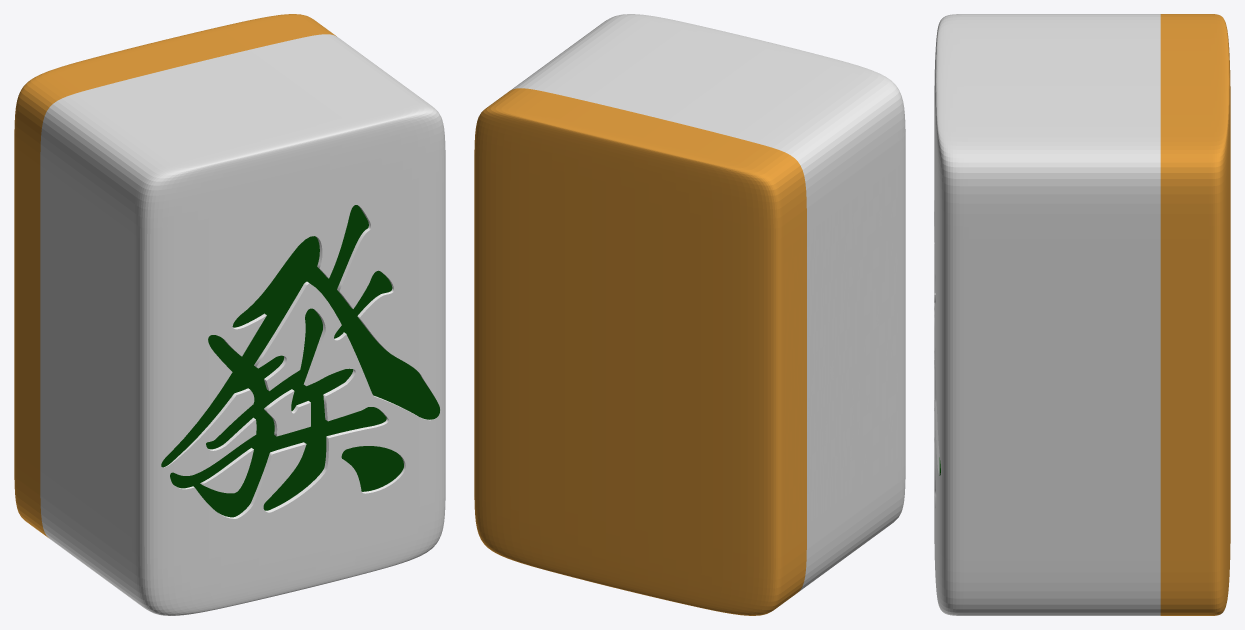
File: Hatsu.fbx
3 renders of one model, left to right at view 1: azimuth 30°, elevation 25°; view 2: azimuth 150°, elevation 25°; view 3: azimuth 270°, elevation 25°, orthographic. The views are drawn at different scales.
Visible parts, largest first — view 1: Hatsu; view 2: Hatsu; view 3: Hatsu.
Boxes of the visible parts, left/top/right/bottom form: Hatsu: left=14, top=14, right=445, bottom=615; Hatsu: left=474, top=14, right=905, bottom=615; Hatsu: left=934, top=14, right=1230, bottom=615.
Size of the model in its own units: 2 by 2.8 by 1.59.
